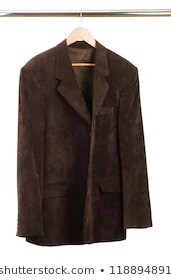F_M_suit jacket: (10, 36, 157, 247)
